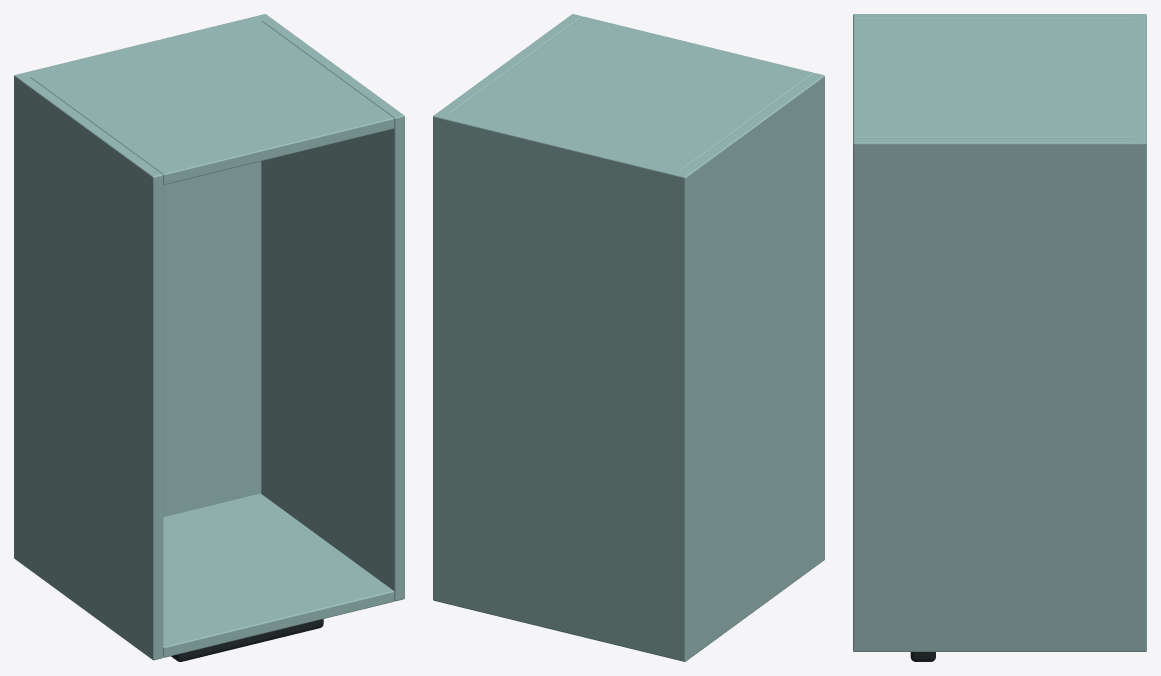
File: storage_box.glb
3 views of the same model, side by side, from view 1: azimuth 30°, elevation 25°; view 2: azimuth 150°, elevation 25°; view 3: azimuth 270°, elevation 25° (orthographic). The views are drawn at different scales.
Visible parts, largest first — view 1: Storage container side, Storage container side.001, Storage container end.001, Storage container floor, Storage container end, Storage carrying bar; view 2: Storage container floor, Storage container side, Storage container end.001, Storage container side.001; view 3: Storage container side.001, Storage container end.001, Storage container floor, Storage container side.
Boxes of the visible parts, <box> form: Storage container side: <box>14,73,163,660</box>; Storage container side.001: <box>257,14,404,601</box>; Storage container end.001: <box>26,16,394,184</box>; Storage container floor: <box>14,14,269,559</box>; Storage container end: <box>163,493,394,657</box>; Storage carrying bar: <box>171,619,323,661</box>; Storage container floor: <box>433,112,690,661</box>; Storage container side: <box>676,73,824,661</box>; Storage container end.001: <box>444,16,814,183</box>; Storage container side.001: <box>433,14,582,600</box>; Storage container side.001: <box>853,138,1146,651</box>; Storage container end.001: <box>853,19,1146,138</box>; Storage container floor: <box>1135,14,1146,651</box>; Storage container side: <box>853,14,1146,19</box>.
Bounding box in the file's own units: 0.24 × 0.473 × 0.23.
